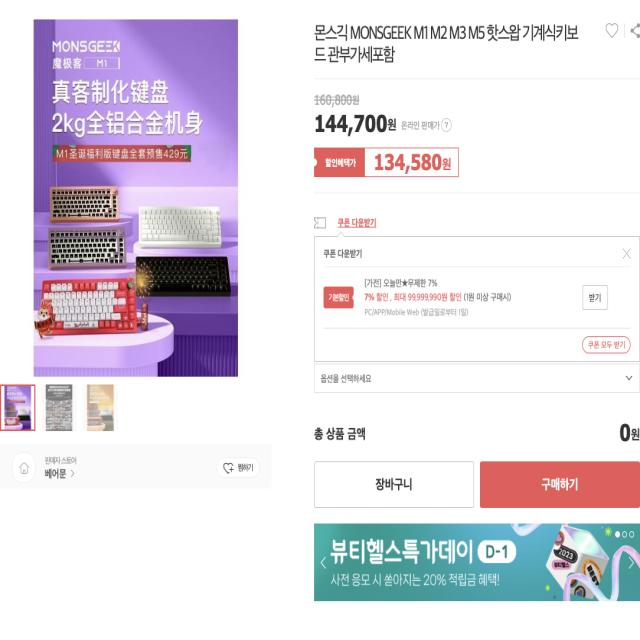product_discount_price: (368, 149, 454, 175)
product_name: (312, 22, 587, 68)
product_original_price: (312, 111, 398, 142)
